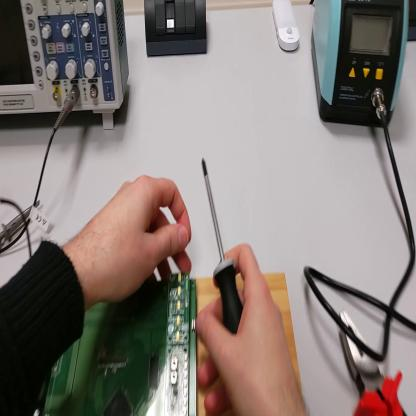hand: (195, 244, 300, 416), (77, 175, 192, 305)
low voltage board: (43, 269, 199, 416)
oscilloscope: (2, 2, 129, 132), (2, 197, 41, 242)
pliers: (339, 308, 406, 415)
screwdriver-: (202, 158, 244, 335)
socket: (408, 2, 416, 44)
welder station: (312, 2, 410, 126)
working area: (200, 269, 304, 414)
